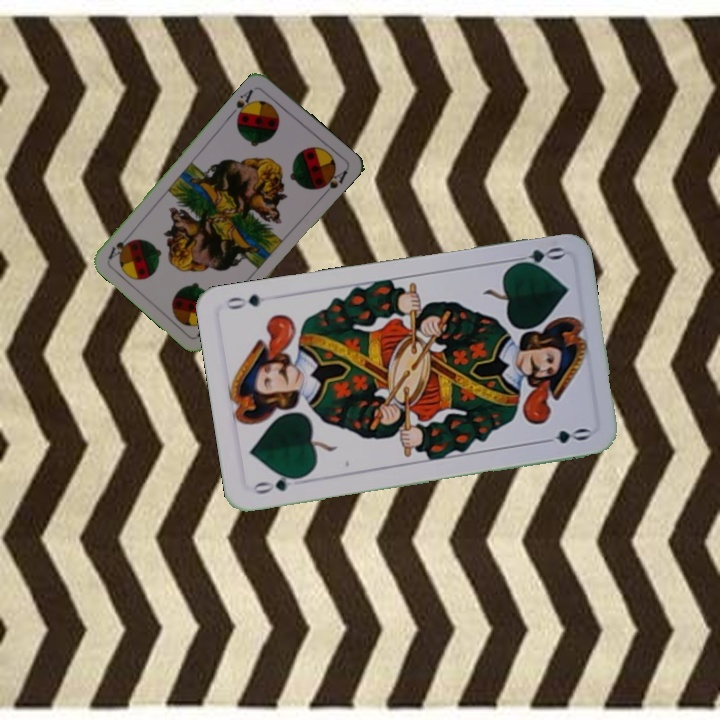GO: (506, 243, 566, 270), (248, 471, 306, 497)
SA: (227, 85, 257, 122)
